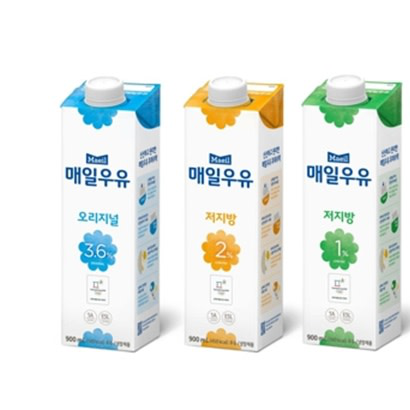milk: (57, 77, 162, 352), (301, 74, 402, 352), (186, 76, 284, 352)
